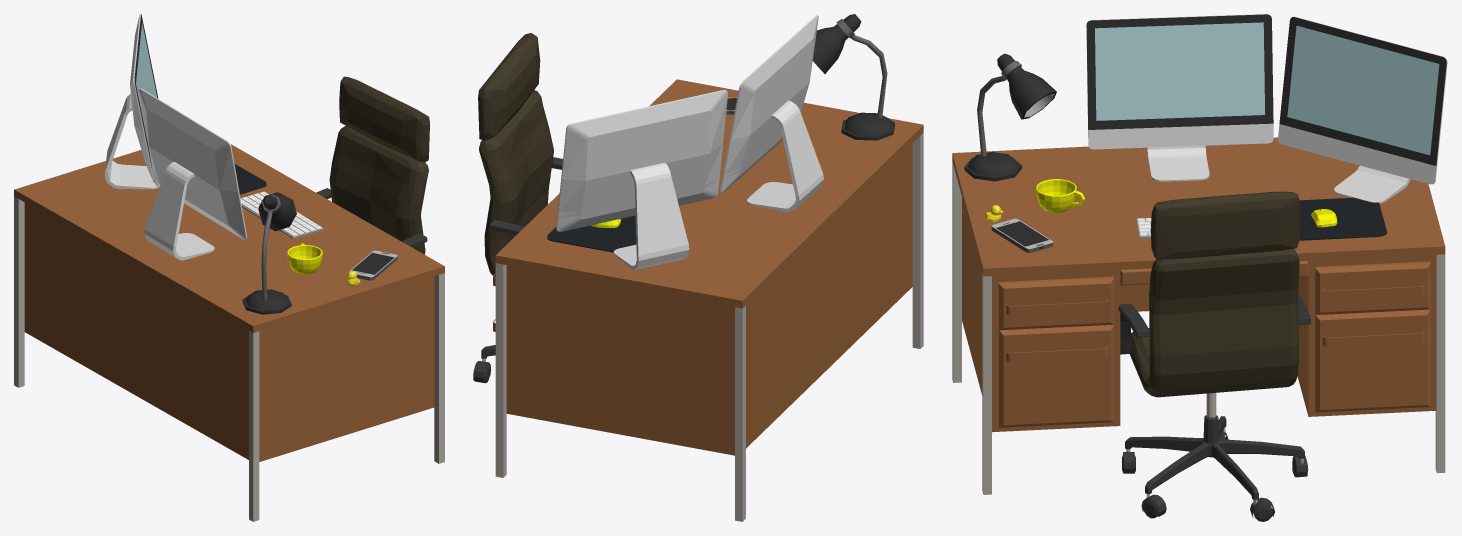
Rendered from Desk.glb.
The picture shows the model from 3 angles, left to right: view 1: azimuth 30°, elevation 25°; view 2: azimuth 150°, elevation 25°; view 3: azimuth 270°, elevation 25°; orthographic projection. The views are drawn at different scales.
Parts seen in each view (by area): view 1: Monitor.001|iMac|Dupli|.002; view 2: Monitor.001|iMac|Dupli|.002; view 3: Monitor.001|iMac|Dupli|.002.
Boxes of the visible parts, x1,y1,x2,y2 form: Monitor.001|iMac|Dupli|.002: (14, 14, 444, 521); Monitor.001|iMac|Dupli|.002: (473, 14, 923, 521); Monitor.001|iMac|Dupli|.002: (952, 14, 1447, 521).
Size of the model in its own units: 1.51 by 1.56 by 1.85.
Materials: 22 (5 with a texture image).
